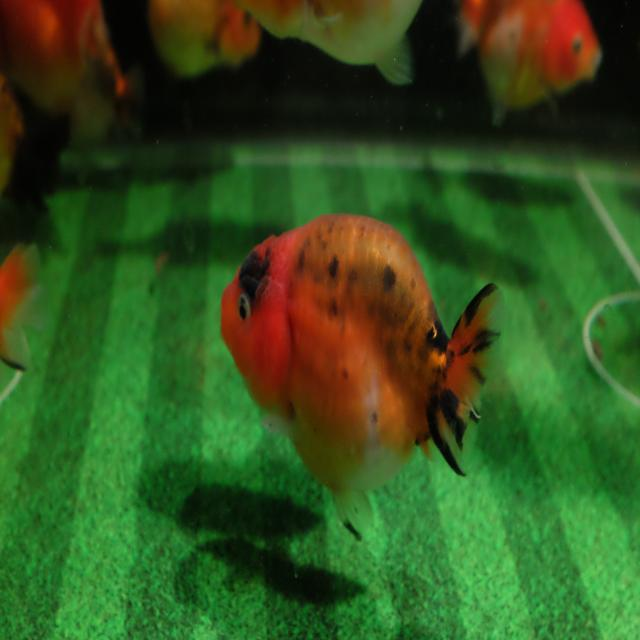Goldfish: (219, 210, 505, 545)
